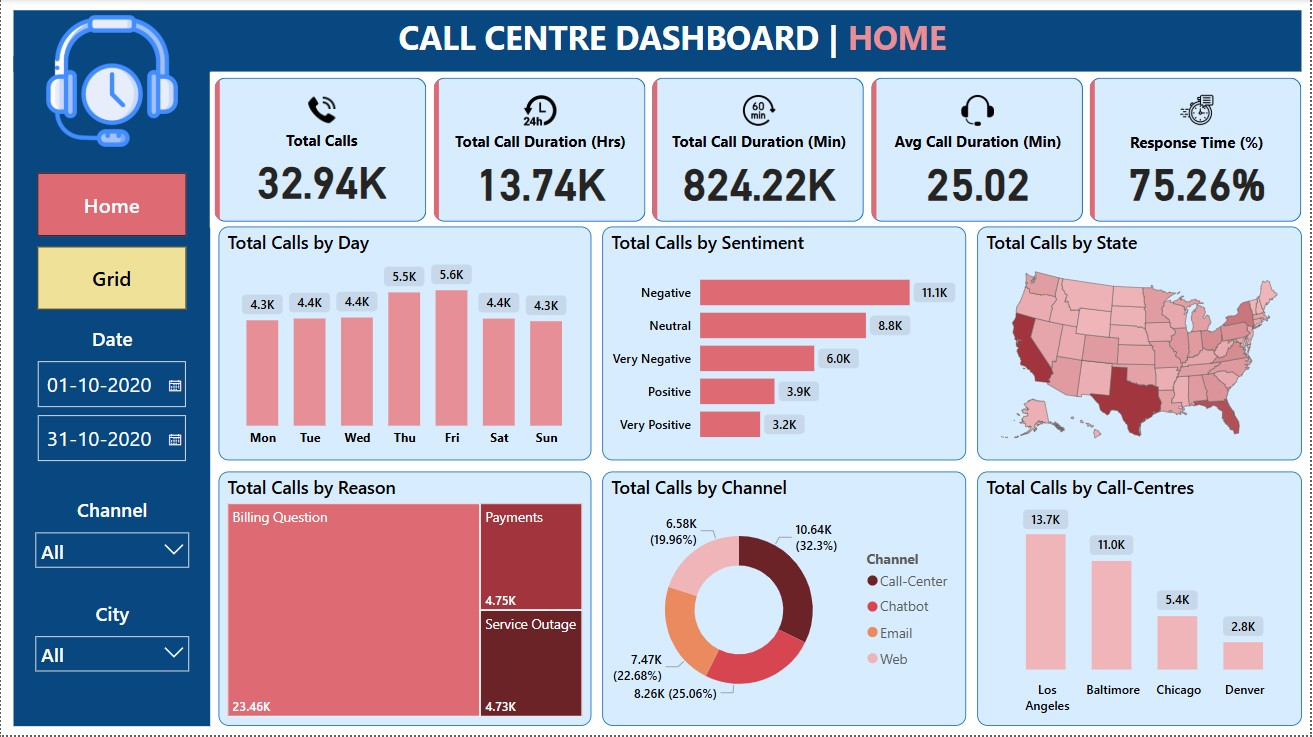

Layout of this report page (visuals, bound fields, positions):
{"tool":"powerbi","page":{"name":"Home","canvas":[1280,720],"ordinal":0},"visuals":[{"type":"shape","box":[12.8,11.4,1260,60],"z":0},{"type":"shape","box":[12.2,56.5,192.4,655.1],"z":1000},{"type":"cardVisual","fields":{"Data":["All_Measures.Total_Calls","All_Measures.Total_Call_Duration_(Hrs)","All_Measures.Total_Call_Duration_(Min)","All_Measures.Avg_Call_Duration_(Min)","All_Measures.Responce_Time_(%)"]},"box":[204.6,71.8,1075.1,151.2],"z":2000},{"type":"textbox","box":[383.8,10.7,561.1,61.2],"z":3000},{"type":"columnChart","title":"Total Calls by Day","fields":{"Category":["Date_Table.Day"],"Y":["All_Measures.Total_Calls"]},"box":[212.3,223,365,229.1],"z":4000},{"type":"shapeMap","title":"Total Calls by State","fields":{"Category":["Call Center_Call Center.State"],"Value":["All_Measures.Total_Calls"]},"box":[954.4,223,317.6,229.1],"z":5000},{"type":"treemap","title":"Total Calls by Reason","fields":{"Group":["Call Center_Call Center.Reason"],"Values":["All_Measures.Total_Calls"]},"box":[212.3,462.7,365,248.9],"z":6000},{"type":"donutChart","title":"Total Calls by Channel","fields":{"Category":["Call Center_Call Center.Channel"],"Y":["All_Measures.Total_Calls"]},"box":[587.9,462.7,355.8,248.9],"z":7000},{"type":"barChart","title":"Total Calls by Sentiment","fields":{"Category":["Call Center_Call Center.Sentiment"],"Y":["All_Measures.Total_Calls"]},"box":[587.9,223,355.8,229.1],"z":8000},{"type":"columnChart","title":"Total Calls by Call-Centres","fields":{"Category":["Call Center_Call Center.Call-Centres City"],"Y":["All_Measures.Total_Calls"]},"box":[954.4,462.7,317.6,248.9],"z":9000},{"type":"slicer","title":"Date","fields":{"Values":["Date_Table.Date"]},"box":[22.9,319.2,171,143.5],"z":10000},{"type":"slicer","title":"City","fields":{"Values":["Call Center_Call Center.City"]},"box":[22.9,587.9,171,82.5],"z":11000},{"type":"slicer","title":"Channel","fields":{"Values":["Call Center_Call Center.Channel"]},"box":[22.9,487.1,171,87],"z":12000},{"type":"image","box":[35.1,10.7,146.6,139],"z":13000},{"type":"pageNavigator","box":[35.1,169.5,146.6,135.9],"z":14000}]}

Visuals, with their boxes in screenshot pixels (x1, y1, x2, y2), scaled from the page's 1280x720 canvas onto the 1313x737 screenshot:
shape: box(13, 12, 1306, 73)
shape: box(13, 58, 210, 728)
cardVisual - All_Measures.Total_Calls x All_Measures.Total_Call_Duration_(Hrs): box(210, 73, 1312, 228)
textbox: box(394, 11, 969, 74)
"Total Calls by Day" columnChart: box(218, 228, 592, 463)
"Total Calls by State" shapeMap: box(979, 228, 1305, 463)
"Total Calls by Reason" treemap: box(218, 474, 592, 728)
"Total Calls by Channel" donutChart: box(603, 474, 968, 728)
"Total Calls by Sentiment" barChart: box(603, 228, 968, 463)
"Total Calls by Call-Centres" columnChart: box(979, 474, 1305, 728)
"Date" slicer: box(23, 327, 199, 474)
"City" slicer: box(23, 602, 199, 686)
"Channel" slicer: box(23, 499, 199, 588)
image: box(36, 11, 186, 153)
pageNavigator: box(36, 174, 186, 313)
